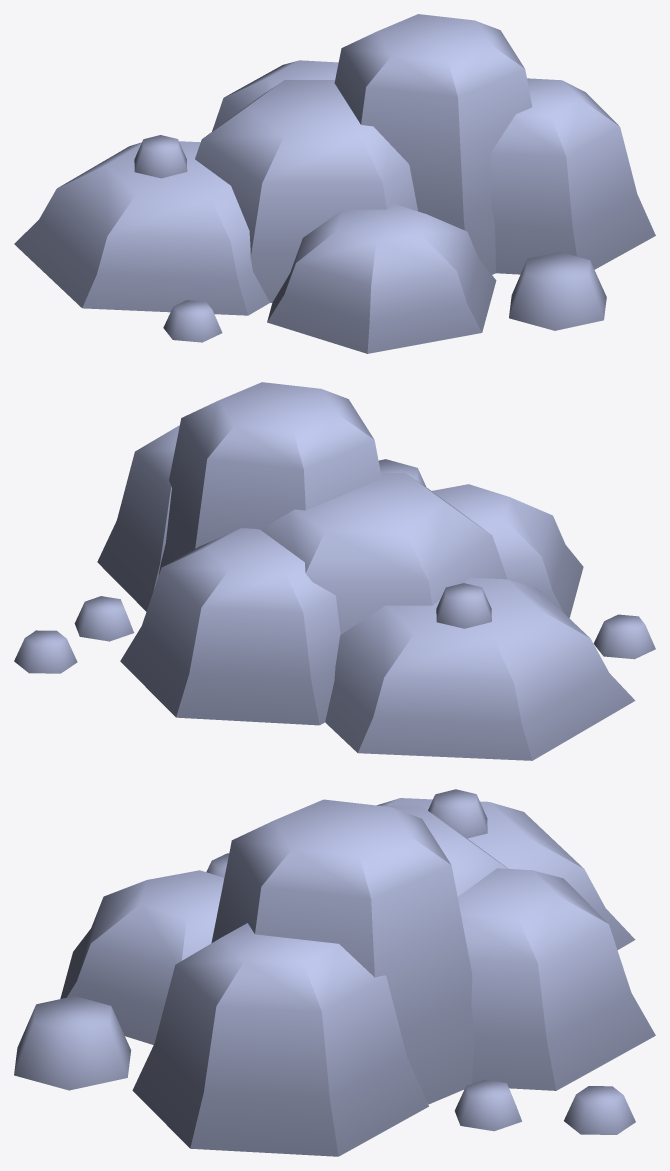
File: rocks.003_lev3.glb
3 views of the same model, one above another, from view 1: azimuth 30°, elevation 25°; view 2: azimuth 150°, elevation 25°; view 3: azimuth 270°, elevation 25° (orthographic). The views are drawn at different scales.
Parts seen in each view (by area): view 1: rocks.003_lev3; view 2: rocks.003_lev3; view 3: rocks.003_lev3.
Part boxes in pixels (<box>): rocks.003_lev3: <box>14,14,655,353</box>; rocks.003_lev3: <box>14,382,655,760</box>; rocks.003_lev3: <box>14,789,655,1156</box>.
Size of the model in its own units: 16.14 by 5.66 by 14.47.
1 material, 1 textured.
